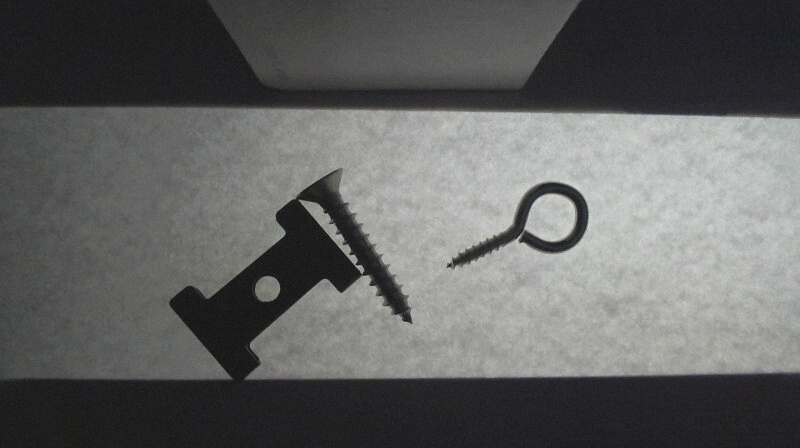O001: (444, 182, 590, 271)
O002: (167, 195, 362, 381)
S001: (294, 167, 413, 324)
